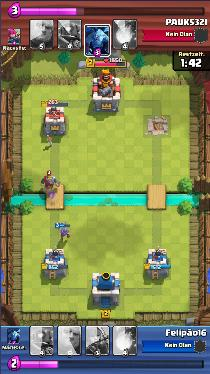ally_musketeer: (56, 222, 70, 241)
enemy_knight: (39, 176, 61, 191)
